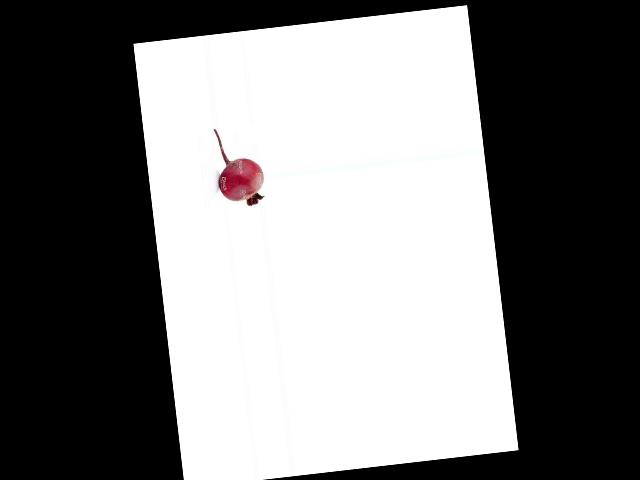beet: (212, 124, 266, 209)
